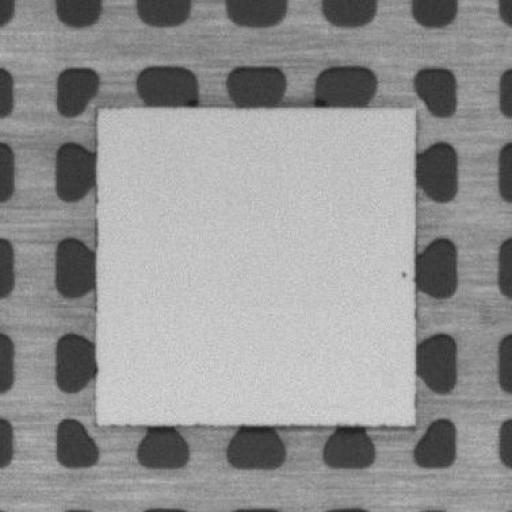DIE_INK: (398, 264, 409, 280)
